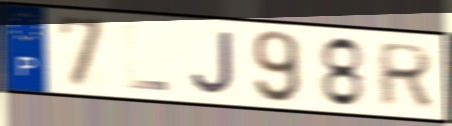7: (55, 13, 108, 91)
8: (316, 32, 367, 111)
9: (250, 28, 302, 105)
J: (188, 28, 237, 97)
L: (123, 21, 172, 93)
R: (375, 40, 437, 108)
